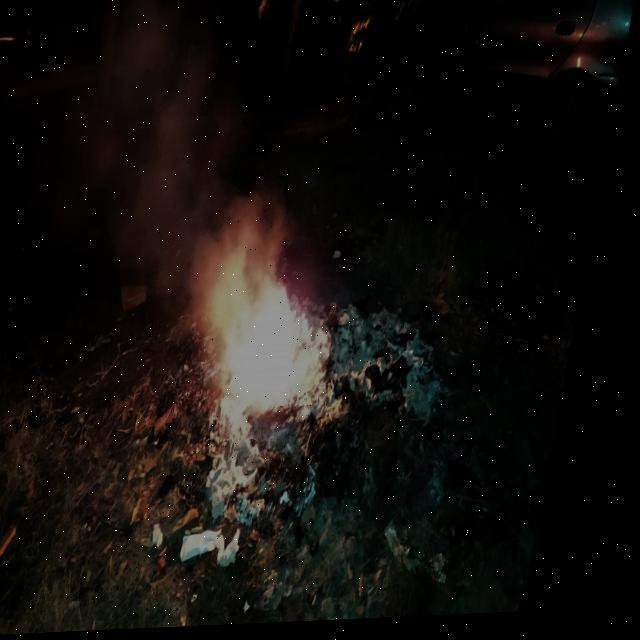Fire: (186, 226, 328, 421)
